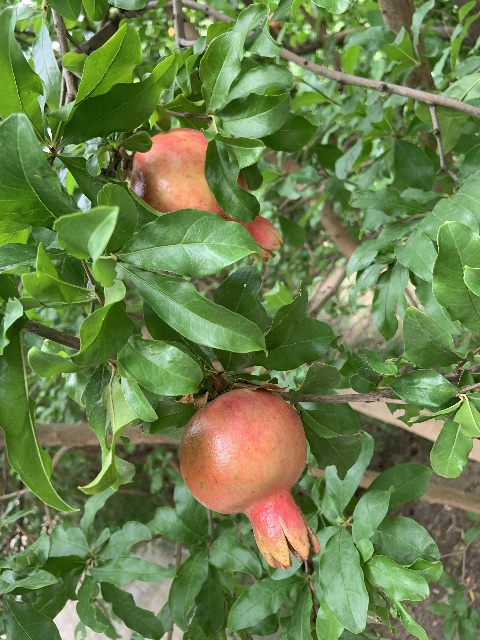ripe: (178, 388, 319, 567), (130, 127, 283, 259)
